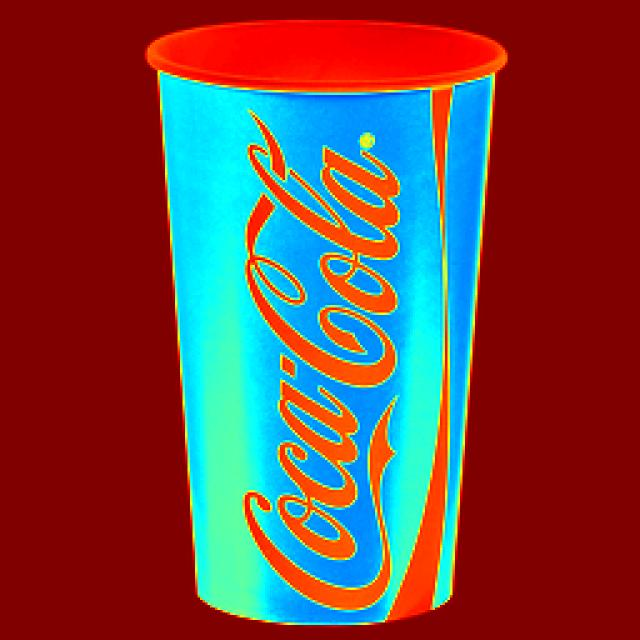Paper Cups: (146, 10, 498, 640)
